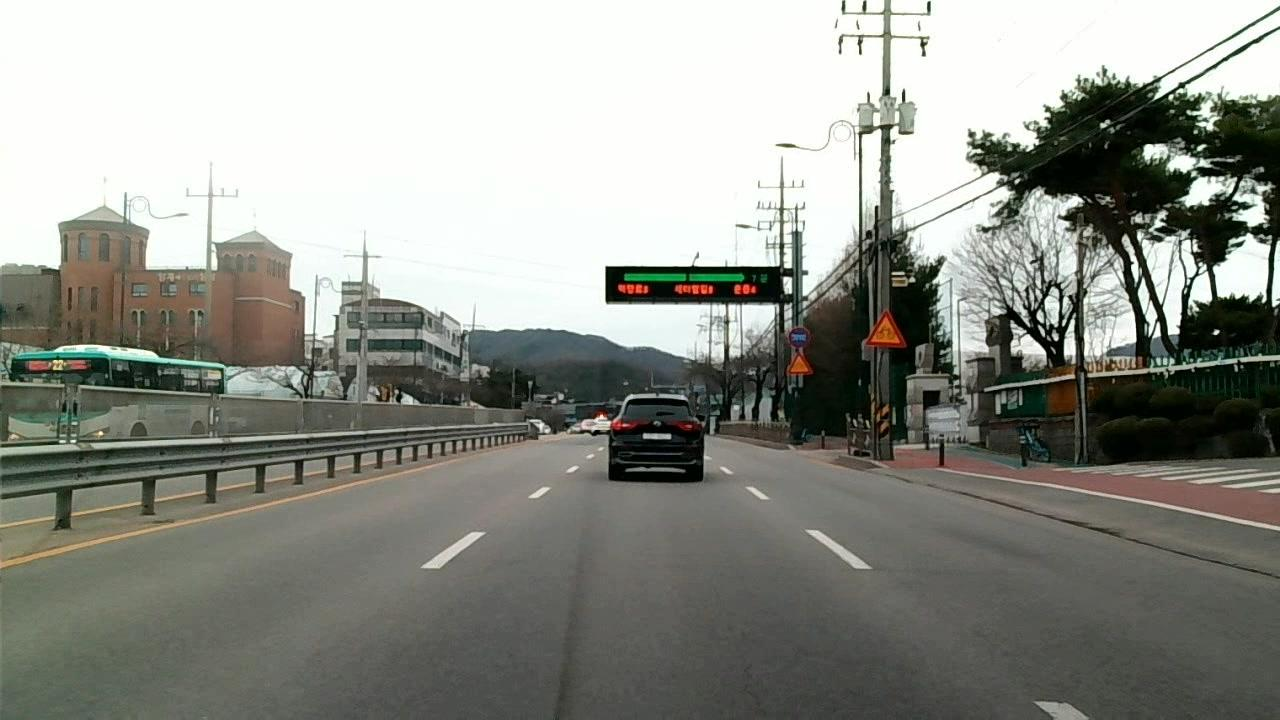banner: (1127, 534, 1274, 573), (998, 500, 1114, 534), (888, 469, 984, 499)
